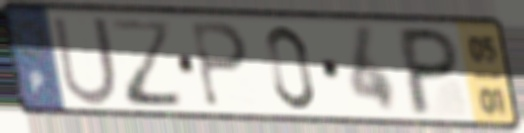0: (264, 23, 317, 112)
4: (346, 20, 401, 120)
P: (398, 23, 462, 119), (188, 18, 251, 111)
U: (48, 13, 122, 109)
Z: (106, 16, 188, 110)
